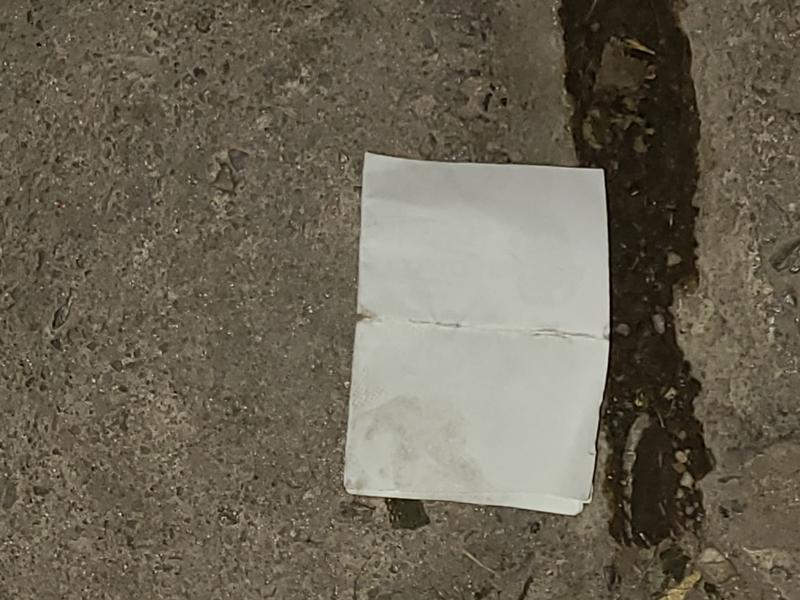papel: (343, 154, 610, 519)
